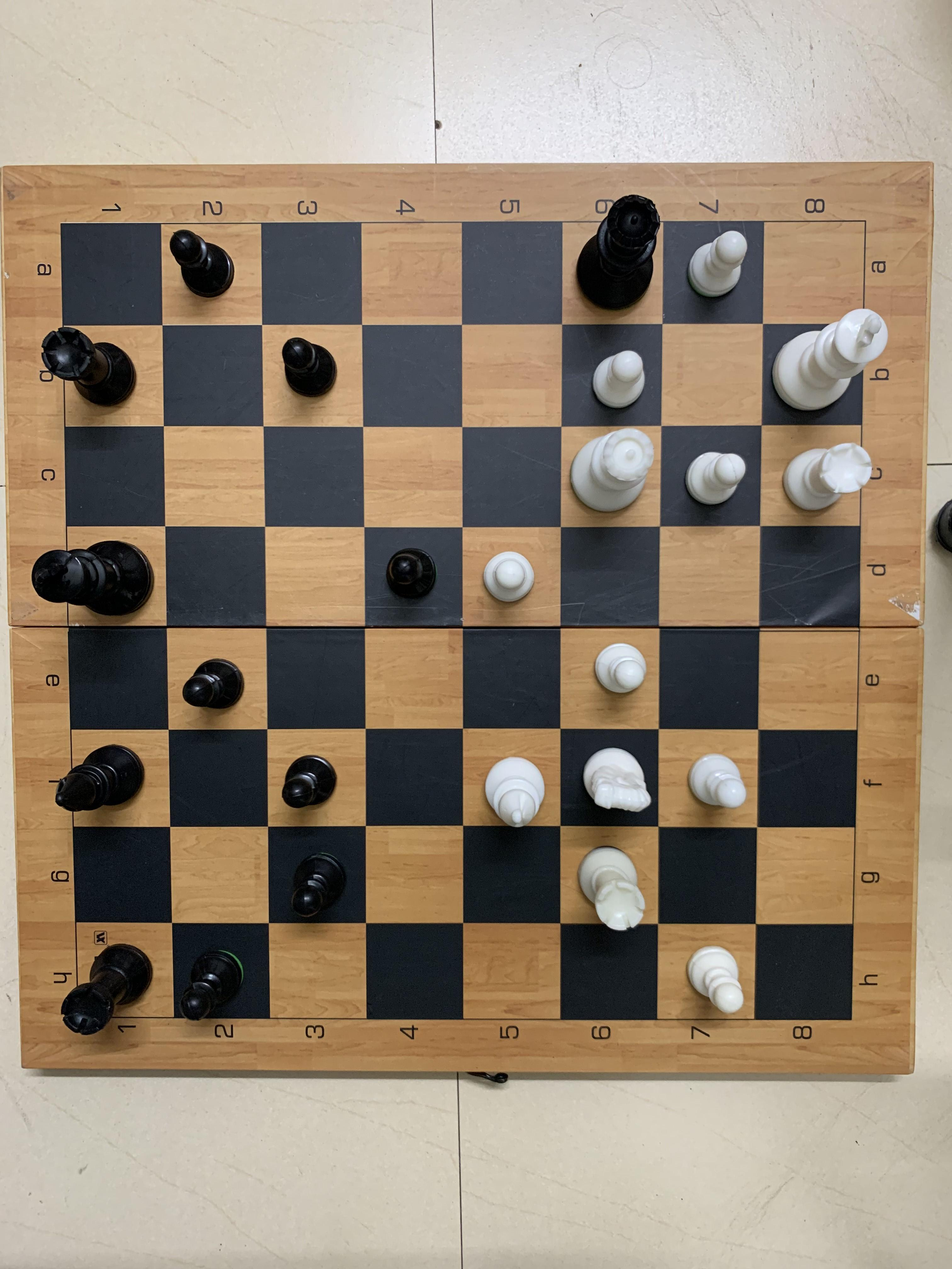black_bishop: (47, 743, 149, 820)
black_king: (32, 532, 163, 629)
black_pawn: (166, 222, 239, 310), (176, 943, 252, 1023), (174, 645, 248, 720), (283, 842, 351, 919), (275, 334, 346, 399), (279, 750, 341, 813), (382, 541, 436, 609)
black_queen: (568, 190, 669, 319)
black_rook: (48, 940, 162, 1048), (36, 323, 144, 419)
white_bishop: (480, 750, 549, 832)
white_king: (773, 304, 898, 422)
white_knight: (581, 744, 653, 823)
white_pawn: (683, 434, 753, 516), (685, 223, 752, 304), (686, 935, 745, 1020), (683, 746, 747, 822), (587, 346, 652, 414), (590, 639, 648, 699), (478, 547, 534, 608)
white_queen: (565, 428, 660, 524)
white_rook: (781, 436, 876, 520), (573, 837, 650, 940)
